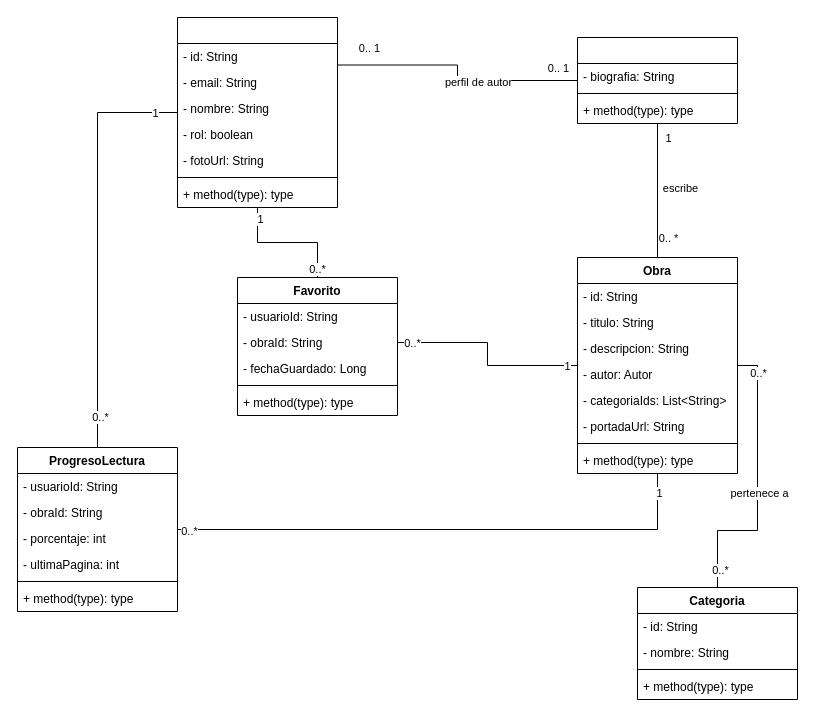
The diagram is 815 pixels wide and 720 high, and some of its shapes have lost their labels. The box of each missing label's shape, as (x1, y1, x2, y2) in pixels:
Autor: (576, 36, 738, 124)
Usuario: (176, 16, 338, 208)
